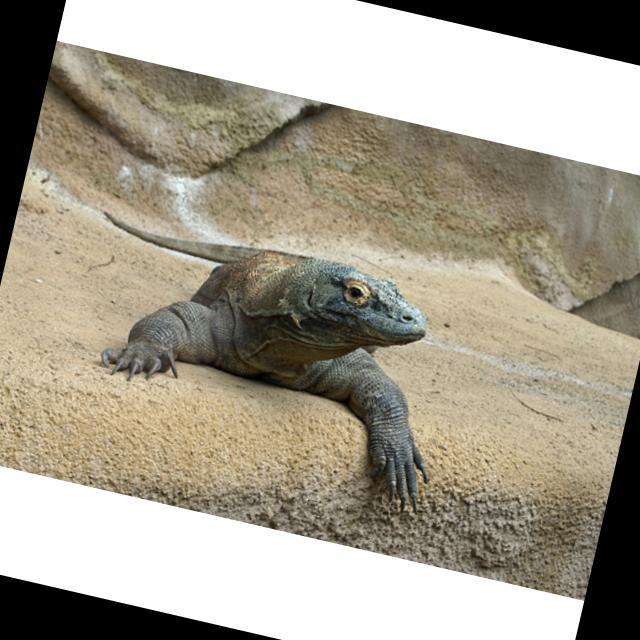KomodoDragon: (53, 208, 471, 513)
